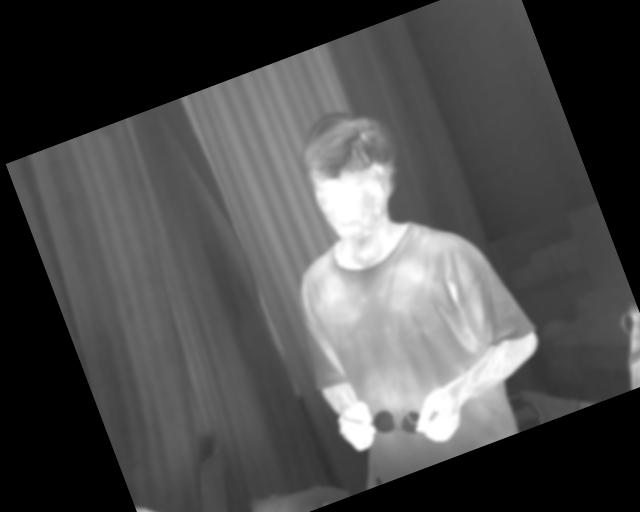face: (285, 94, 424, 252)
